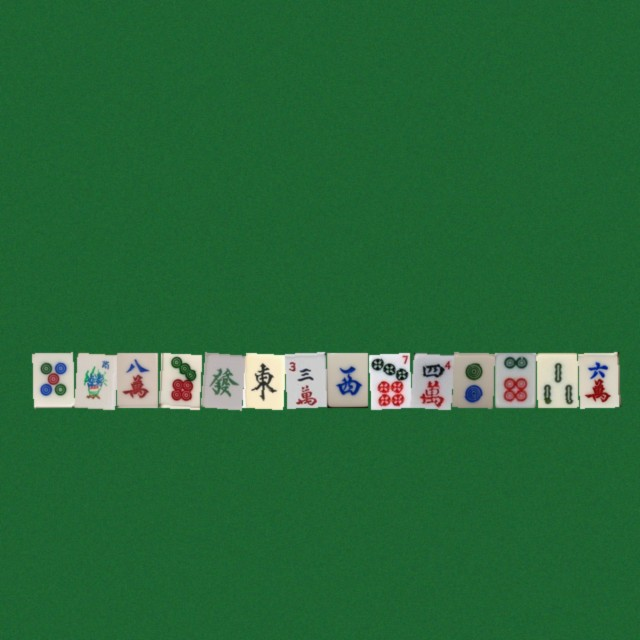tile: (32, 352, 73, 407), (74, 352, 115, 407), (116, 352, 157, 407), (158, 352, 199, 407), (200, 352, 241, 407), (242, 352, 283, 407), (284, 352, 325, 407), (326, 352, 367, 407), (368, 352, 409, 407), (410, 352, 451, 407), (452, 352, 493, 407), (494, 352, 535, 407), (536, 352, 577, 407), (578, 352, 619, 407)
